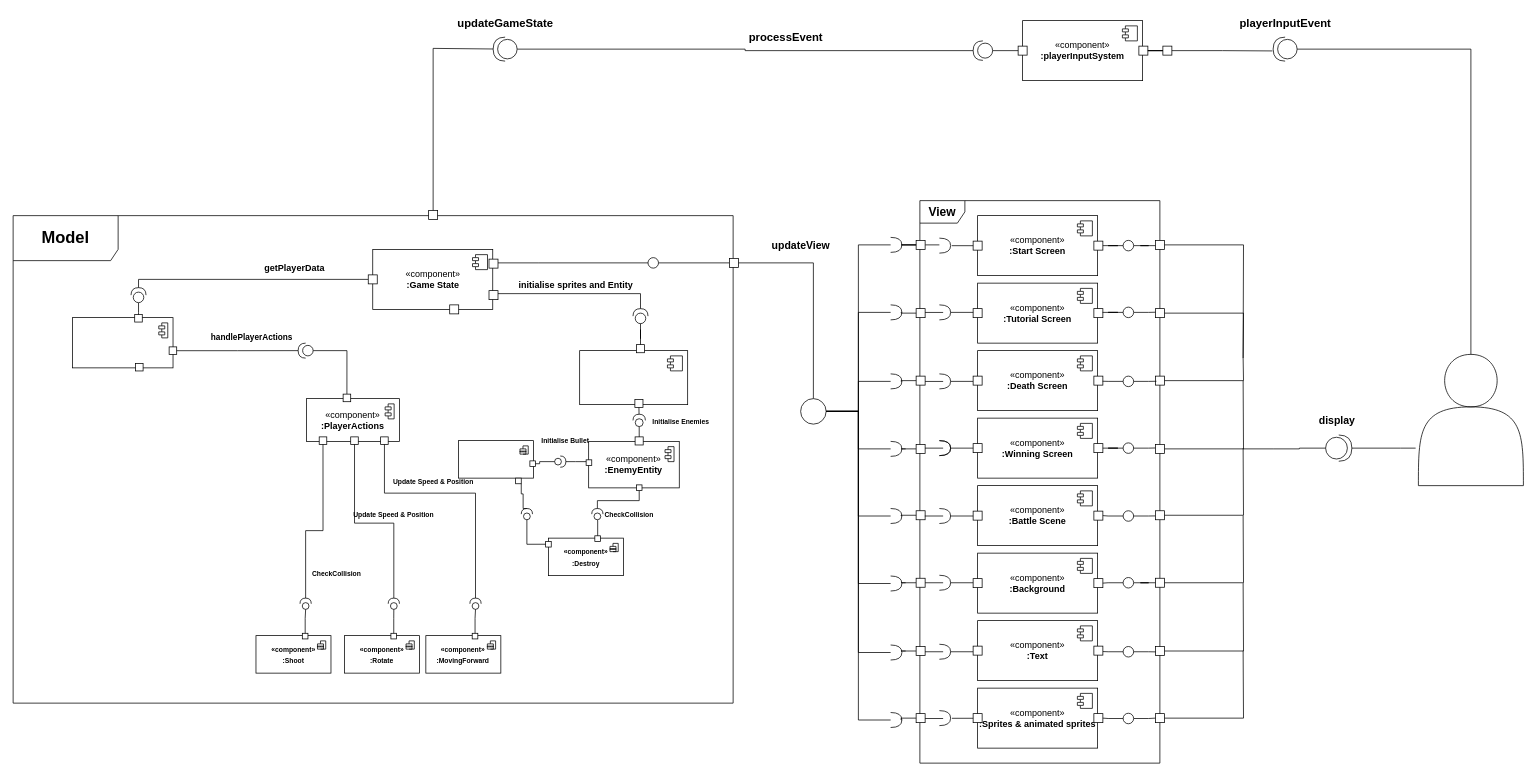
Some shapes in this 1539 by 776 pixel diagram are drawn without their labels. The shapes that lost their labels are listed below. From the top down, each one's centre as x and y in pixels, then its label:
(x=122, y=342): «component» :PlayerTank
(x=633, y=377): «component» :Entity
(x=1470, y=420): Player
(x=495, y=459): «component» :EnemyBullet
